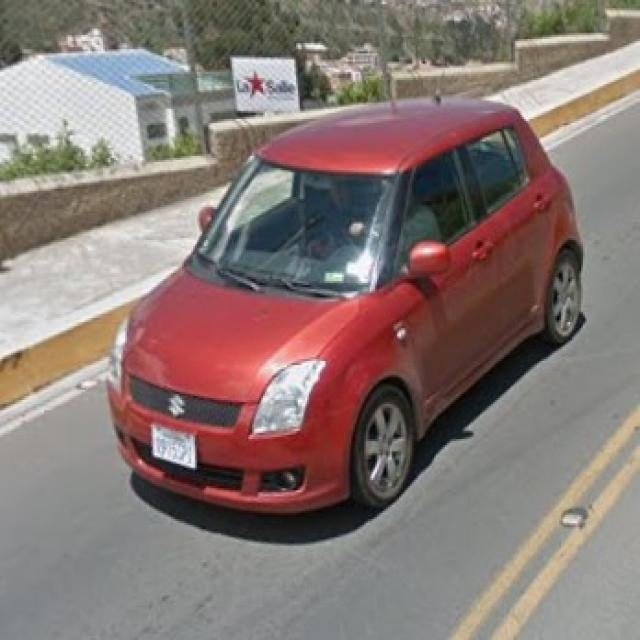Car: (116, 100, 578, 526)
